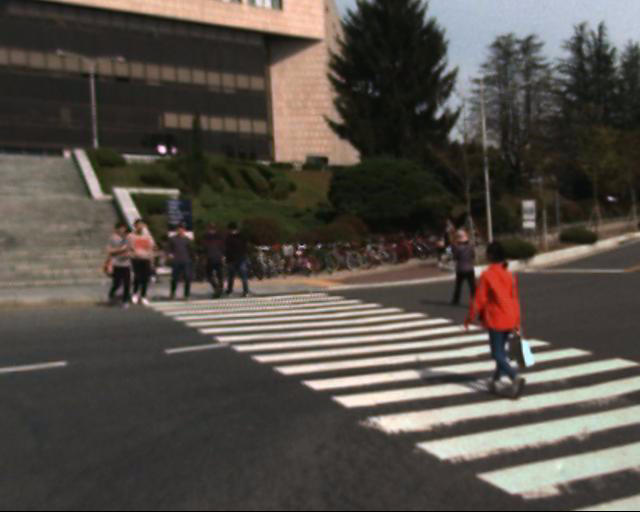person: (478, 230, 533, 401), (98, 214, 147, 314), (445, 217, 485, 318), (123, 209, 157, 317), (216, 212, 255, 306), (159, 214, 196, 312), (196, 220, 233, 303), (424, 206, 468, 272), (421, 217, 456, 281)
